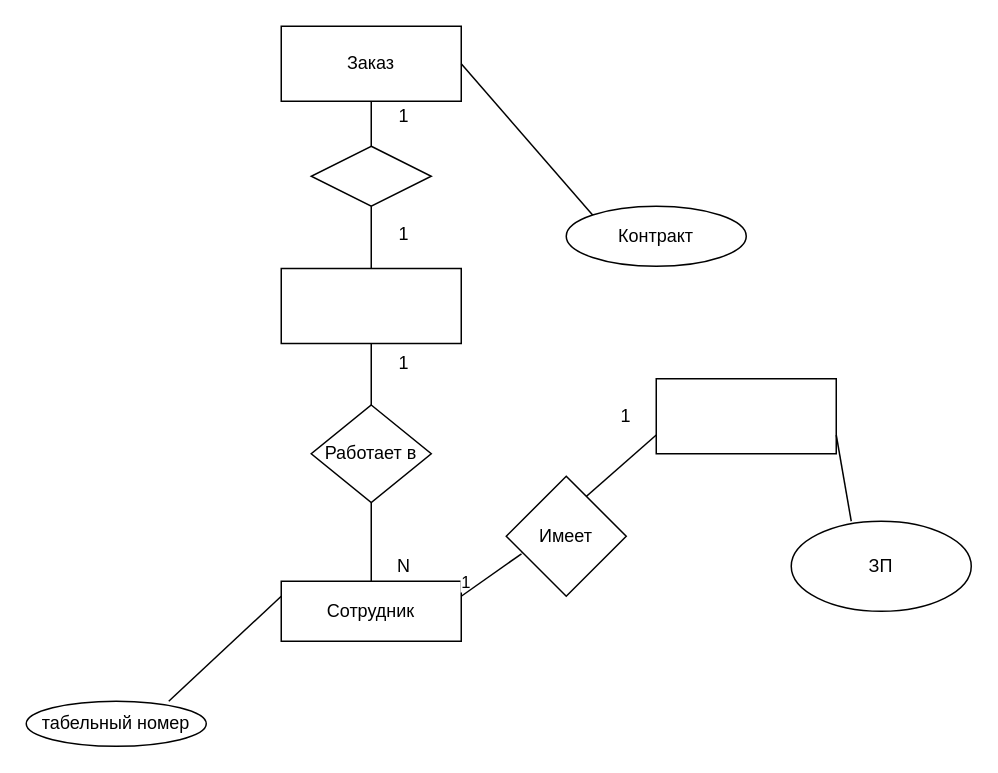
This 998x773 diagram has some shape labels left out. The shapes that lost their labels are listed below. From the top down, each one's box as (x1, y1, x2, y2) in pixels, then its label:
(310, 145, 431, 206): Выполняют
(280, 267, 461, 344): Отдел
(655, 377, 836, 454): Должность
